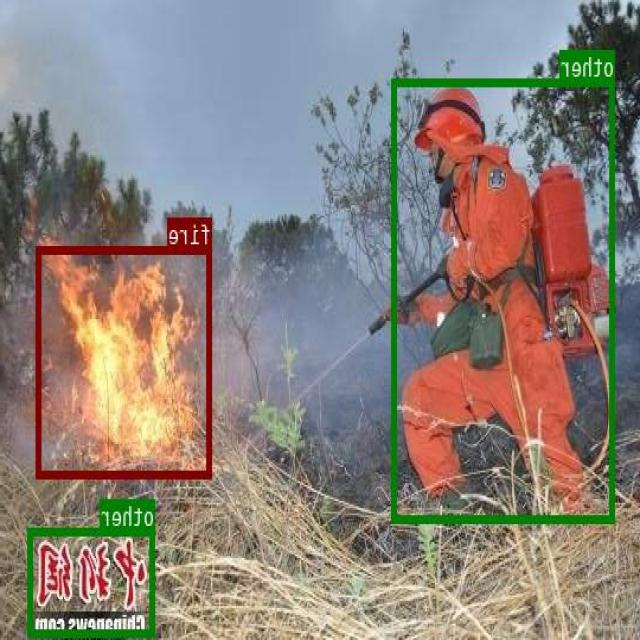fire: (37, 245, 213, 476)
other: (392, 78, 616, 522), (29, 527, 156, 635)
